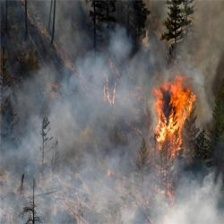fire: (149, 83, 200, 178)
smoke: (28, 80, 138, 214)
